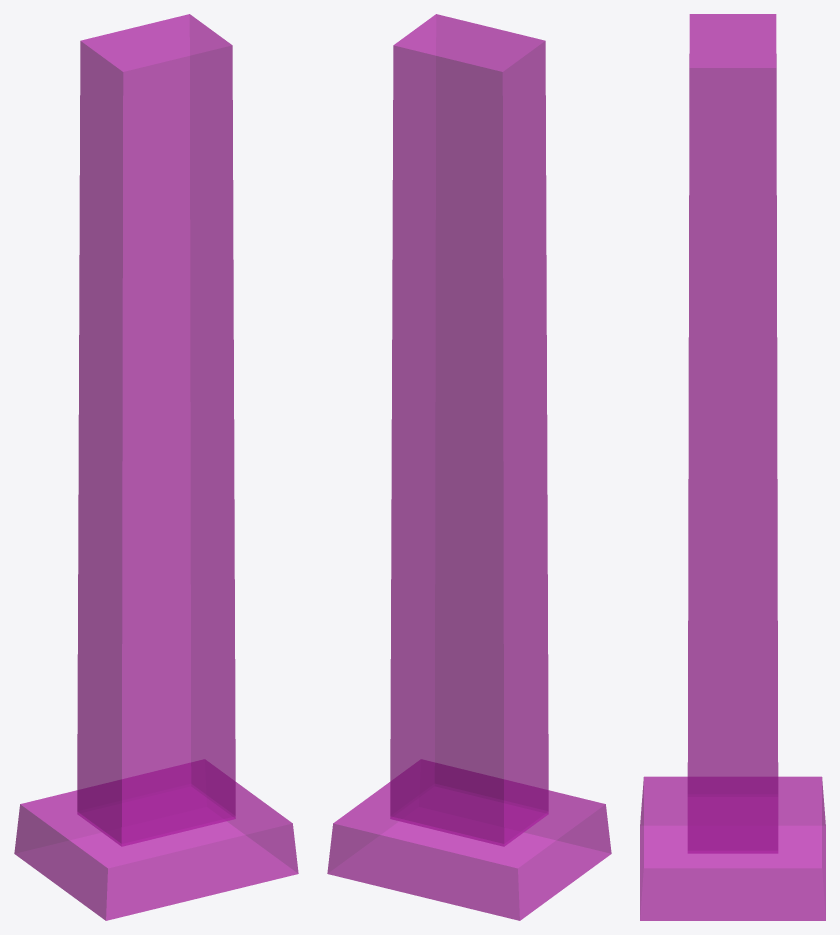
File: SM_Veh_Helm_01_Collision.fbx
3 renders of one model, left to right at view 1: azimuth 30°, elevation 25°; view 2: azimuth 150°, elevation 25°; view 3: azimuth 270°, elevation 25°, orthographic.
Visible parts, largest first — view 1: SM_Veh_Helm_01_Collision; view 2: SM_Veh_Helm_01_Collision; view 3: SM_Veh_Helm_01_Collision.
Boxes of the visible parts, <box> form: SM_Veh_Helm_01_Collision: <box>14,14,298,920</box>; SM_Veh_Helm_01_Collision: <box>327,14,611,920</box>; SM_Veh_Helm_01_Collision: <box>640,14,825,920</box>.
Bounding box in the file's own units: 29.23 × 119 × 24.08.
